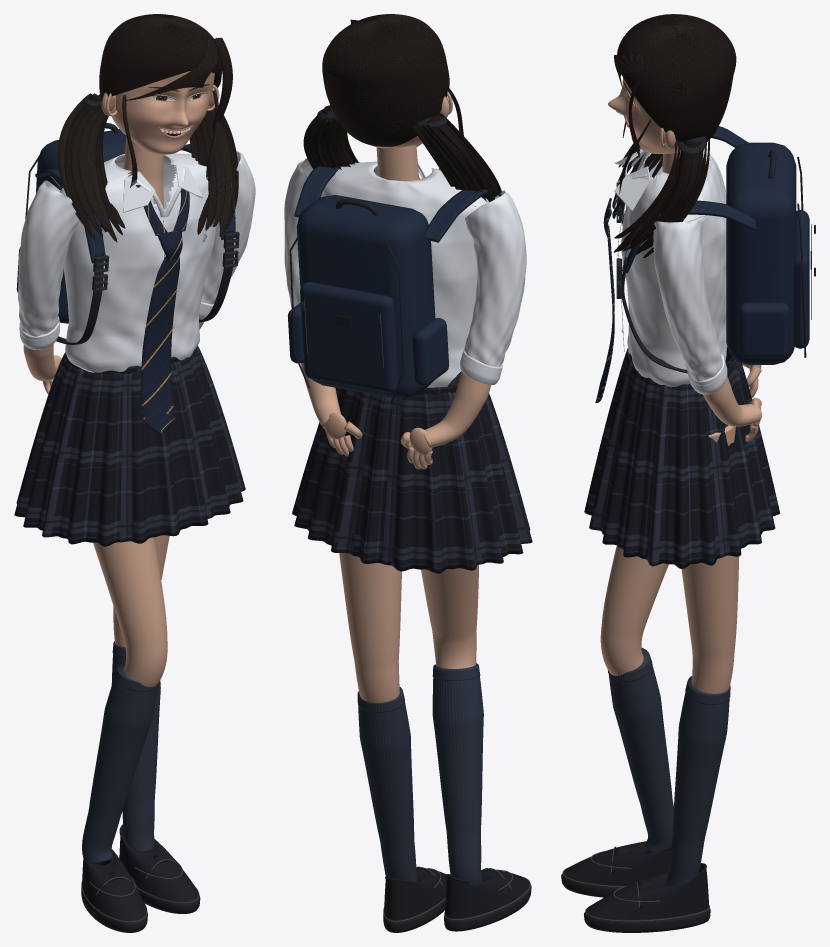
The model's file is gpt6_astra_pro_mcp_blender_rgirljk.glb.
The picture shows the model from 3 angles, left to right: view 1: azimuth 30°, elevation 25°; view 2: azimuth 150°, elevation 25°; view 3: azimuth 270°, elevation 25°; orthographic projection. The views are drawn at different scales.
Parts seen in each view (by area): view 1: Skirt • twenty sculpted pleats, original tartan, Blouse • fitted woven cloth and natural folds, Sock • fine ribs L, Leg • thigh and knee anatomy L, Sleeve • rolled cotton -1, Hair - close-fitting scalp and natural hairline, Face • sculpted continuous anatomical surface, Tie • long striped blade, Sock • fine ribs R, Loafer • formed leather upper R, Loafer • formed leather upper L, Sleeve • rolled cotton 1 (+33 smaller); view 2: Skirt • twenty sculpted pleats, original tartan, Backpack • main structured fabric body, Hair - close-fitting scalp and natural hairline, Blouse • fitted woven cloth and natural folds, Backpack • back pocket, Sock • fine ribs L, Sleeve • rolled cotton -1, Sock • fine ribs R, Leg • thigh and knee anatomy R, Leg • thigh and knee anatomy L, Loafer • formed leather upper L, Loafer • formed leather upper R (+23 smaller); view 3: Skirt • twenty sculpted pleats, original tartan, Backpack • main structured fabric body, Blouse • fitted woven cloth and natural folds, Hair - close-fitting scalp and natural hairline, Sock • fine ribs R, Sleeve • rolled cotton 1, Sock • fine ribs L, Leg • thigh and knee anatomy R, Leg • thigh and knee anatomy L, Loafer • formed leather upper R, Loafer • formed leather upper L, Backpack side pocket.001 (+21 smaller).
Boxes of the visible parts, x1,y1,x2,y2 form: Skirt • twenty sculpted pleats, original tartan: [14, 345, 245, 546]; Blouse • fitted woven cloth and natural folds: [60, 153, 216, 372]; Sock • fine ribs L: [82, 662, 157, 863]; Leg • thigh and knee anatomy L: [93, 537, 167, 687]; Sleeve • rolled cotton -1: [18, 180, 79, 336]; Hair - close-fitting scalp and natural hairline: [100, 15, 220, 98]; Face • sculpted continuous anatomical surface: [111, 71, 214, 154]; Tie • long striped blade: [141, 256, 179, 434]; Sock • fine ribs R: [111, 641, 160, 851]; Loafer • formed leather upper R: [119, 827, 198, 901]; Loafer • formed leather upper L: [82, 849, 146, 920]; Sleeve • rolled cotton 1: [201, 151, 255, 304]; Skirt • twenty sculpted pleats, original tartan: [292, 388, 532, 573]; Backpack • main structured fabric body: [296, 195, 435, 398]; Hair - close-fitting scalp and natural hairline: [323, 14, 449, 146]; Blouse • fitted woven cloth and natural folds: [322, 161, 488, 387]; Backpack • back pocket: [300, 282, 399, 392]; Sock • fine ribs L: [432, 663, 483, 887]; Sleeve • rolled cotton -1: [464, 190, 526, 367]; Sock • fine ribs R: [358, 687, 417, 881]; Leg • thigh and knee anatomy R: [339, 553, 401, 702]; Leg • thigh and knee anatomy L: [421, 564, 478, 668]; Loafer • formed leather upper L: [445, 870, 529, 918]; Loafer • formed leather upper R: [384, 869, 446, 919]; Skirt • twenty sculpted pleats, original tartan: [584, 346, 779, 568]; Backpack • main structured fabric body: [726, 142, 796, 364]; Blouse • fitted woven cloth and natural folds: [621, 148, 727, 387]; Hair - close-fitting scalp and natural hairline: [618, 14, 735, 141]; Sock • fine ribs R: [666, 676, 729, 885]; Sleeve • rolled cotton 1: [653, 220, 722, 381]; Sock • fine ribs L: [609, 648, 673, 852]; Leg • thigh and knee anatomy R: [681, 425, 739, 693]; Leg • thigh and knee anatomy L: [600, 546, 668, 676]; Loafer • formed leather upper R: [586, 865, 709, 919]; Loafer • formed leather upper L: [564, 841, 670, 885]; Backpack side pocket.001: [739, 302, 789, 357].
Bounding box in the file's own units: 0.4615 × 1.66 × 0.4222.
Materials: 34 (2 with a texture image).
